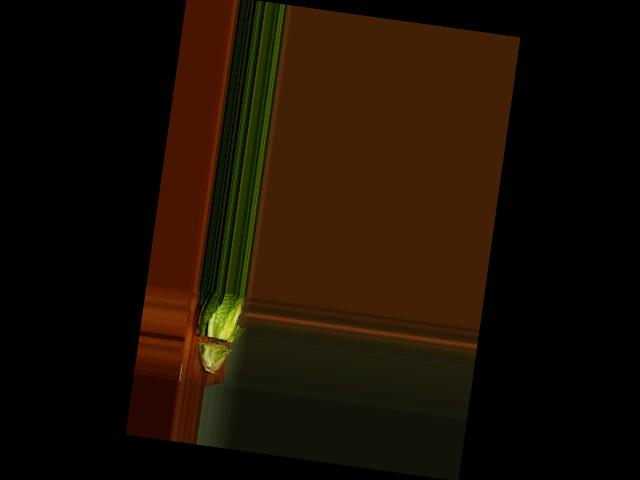lettuce: (186, 290, 247, 375)
